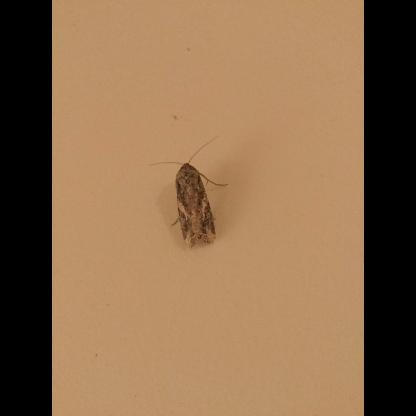Fall Armyworm Moth: (146, 134, 230, 250)
